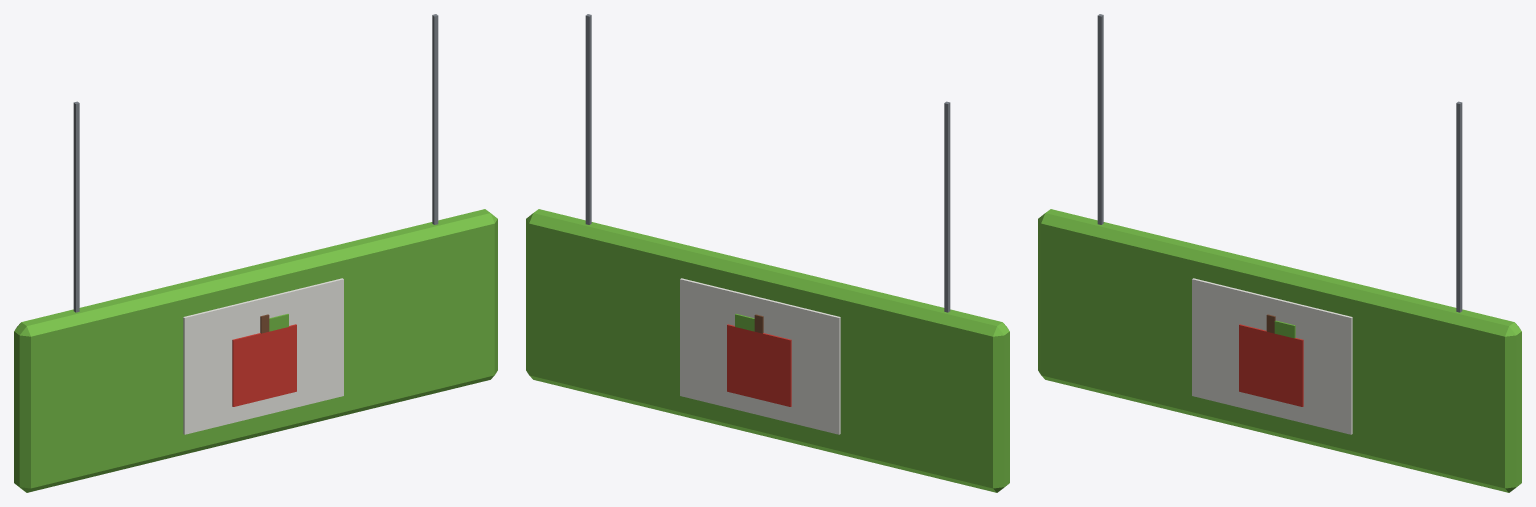
File: aisle_sign_fruit.glb
The picture shows the model from 3 angles, left to right: view 1: azimuth 30°, elevation 25°; view 2: azimuth 150°, elevation 25°; view 3: azimuth 330°, elevation 25°; orthographic projection.
Parts seen in each view (by area): view 1: aisle_sign_fruit; view 2: aisle_sign_fruit; view 3: aisle_sign_fruit.
Boxes of the visible parts, x1=… form: aisle_sign_fruit: x1=14, y1=14, x2=497, y2=492; aisle_sign_fruit: x1=526, y1=14, x2=1009, y2=492; aisle_sign_fruit: x1=1038, y1=14, x2=1521, y2=492.
Size of the model in its own units: 1.2 by 0.9 by 0.08.
1 material, 1 textured.
